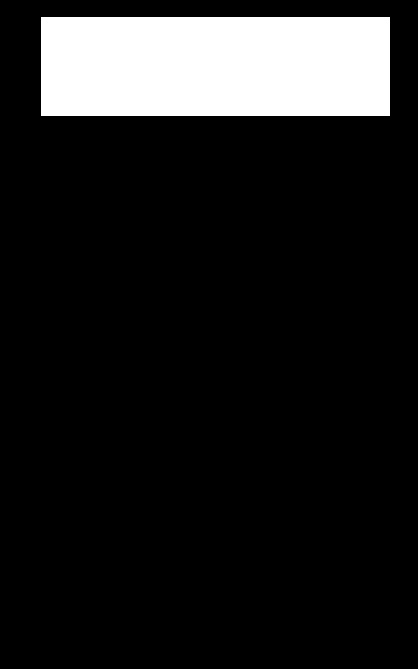table: (41, 17, 389, 115)
